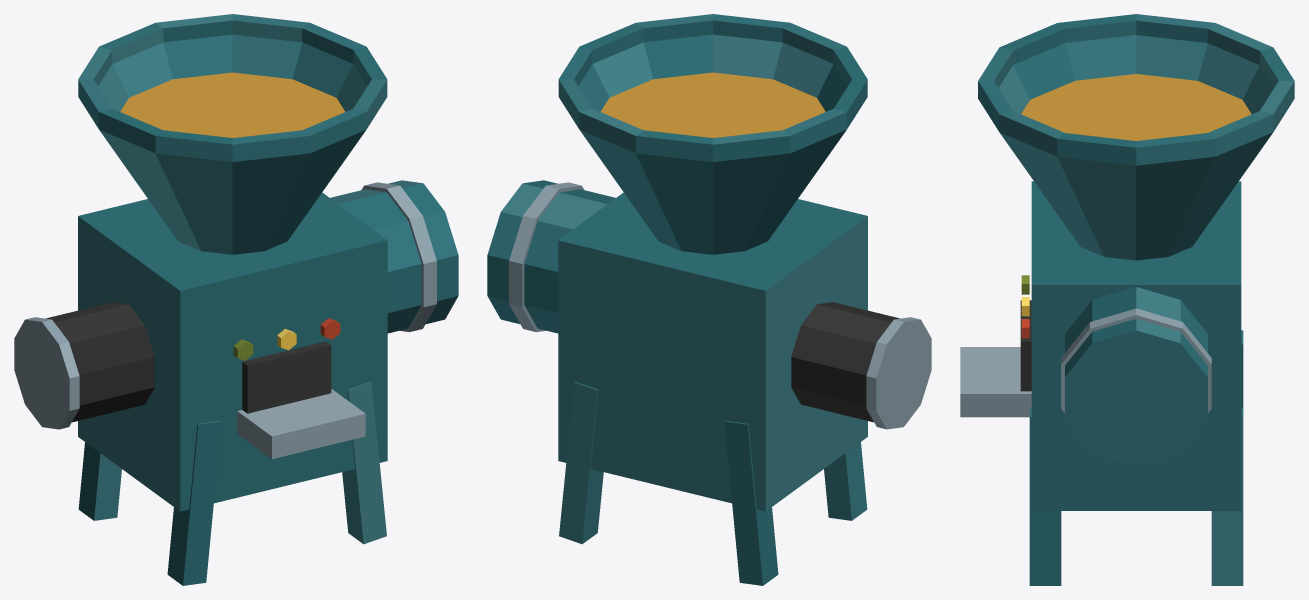
Rendered from C02_FeedMaker_Large.fbx.
The picture shows the model from 3 angles, left to right: view 1: azimuth 30°, elevation 25°; view 2: azimuth 150°, elevation 25°; view 3: azimuth 270°, elevation 25°; orthographic projection. The views are drawn at different scales.
Parts seen in each view (by area): view 1: C02_FeedMaker_Large.004; view 2: C02_FeedMaker_Large.004; view 3: C02_FeedMaker_Large.004.
Boxes of the visible parts, bbox=[...] form: C02_FeedMaker_Large.004: bbox=[14, 14, 458, 585]; C02_FeedMaker_Large.004: bbox=[487, 14, 931, 585]; C02_FeedMaker_Large.004: bbox=[960, 14, 1294, 585].
Size of the model in its own units: 1.62 by 1.81 by 1.2.
